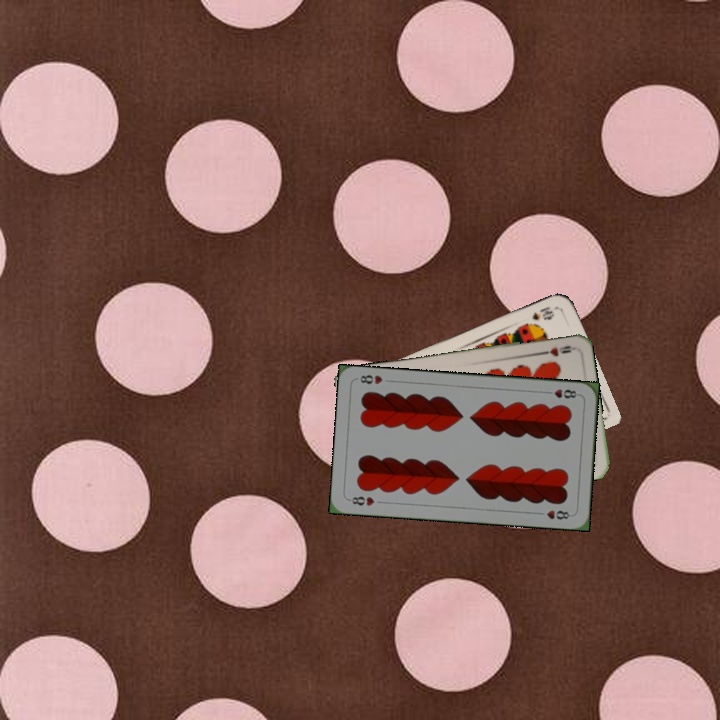H8: (541, 385, 582, 401), (345, 492, 377, 508)
H9: (536, 342, 576, 359)
S10: (528, 302, 560, 323)
